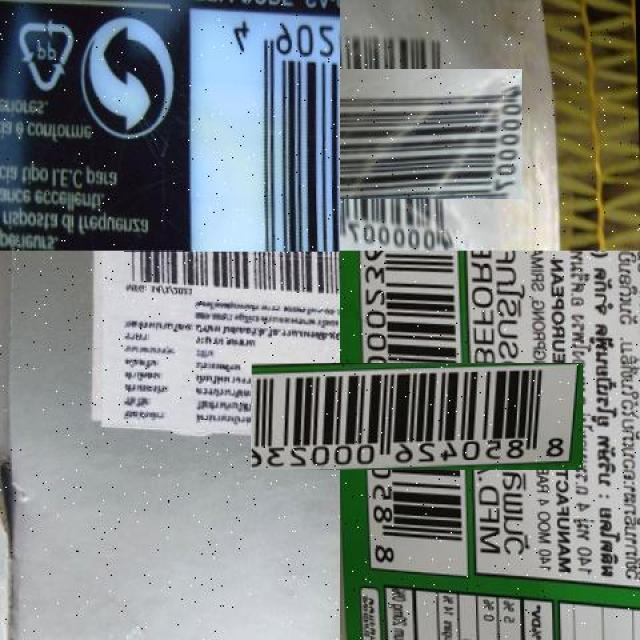Barcode: (306, 306, 526, 526), (185, 18, 340, 250), (315, 44, 496, 225), (124, 250, 340, 310)
